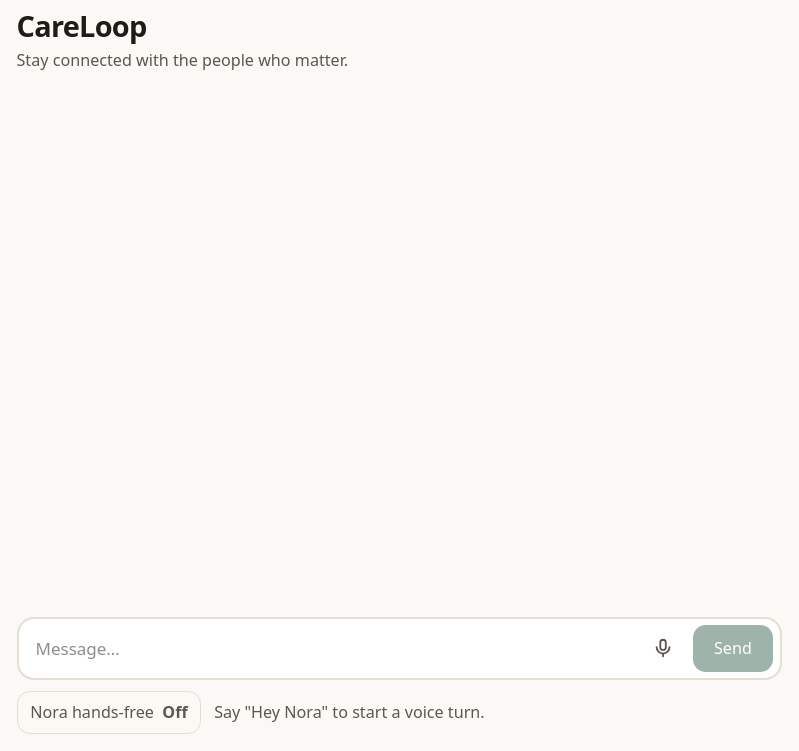
Test: 2. turning it on and off › starts the engine and says it is listening
The width and height of the screenshot is (799, 751).
Click the switch labelled "Nora hands-free Off" at (109, 712), box [16,691,201,734]
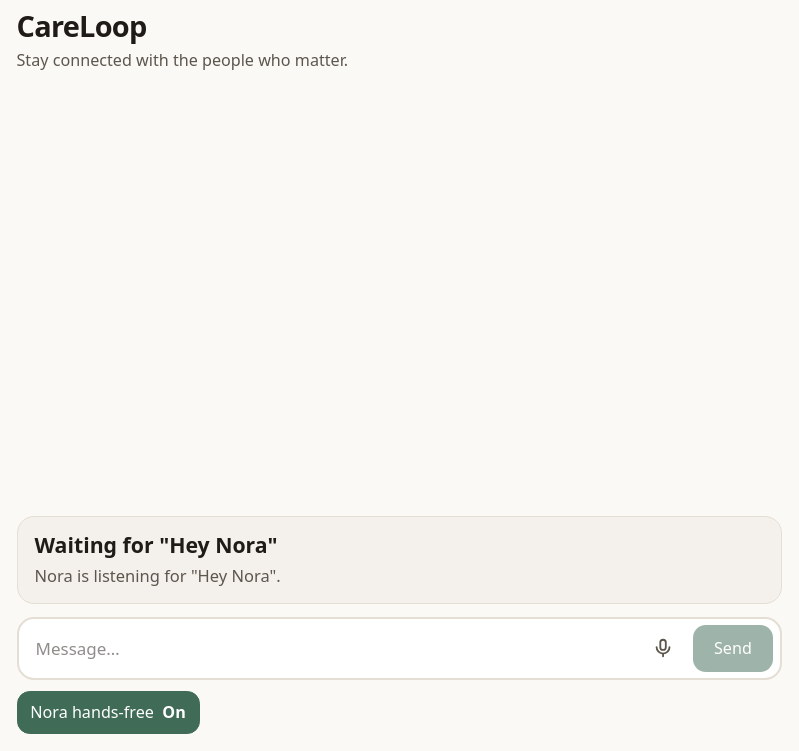
Expected: the text "Nora is listening for \"Hey Nora\"." is shown, [34,564,281,587]
